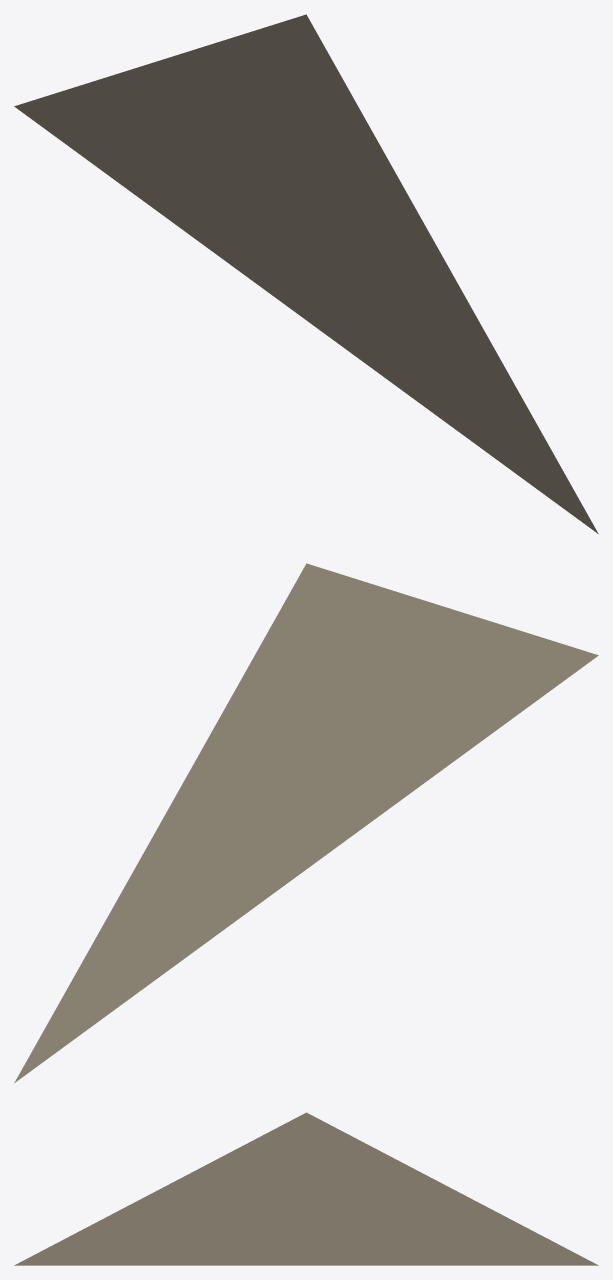
File: 0090-Buildings-shell-pieces-roof-emitRoof-1-triangles-0-00-x-2-60-x-9-00-m-from-prese.glb
The picture shows the model from 3 angles, top to bottom: view 1: azimuth 30°, elevation 25°; view 2: azimuth 150°, elevation 25°; view 3: azimuth 270°, elevation 25°; orthographic projection. The views are drawn at different scales.
Visible parts, largest first — view 1: emitRoof; view 2: emitRoof; view 3: emitRoof.
Part boxes in pixels (left/top/right/bottom): emitRoof: left=14, top=14, right=598, bottom=533; emitRoof: left=14, top=563, right=598, bottom=1082; emitRoof: left=14, top=1112, right=598, bottom=1265.
Size of the model in its own units: 0 by 2.6 by 9.
